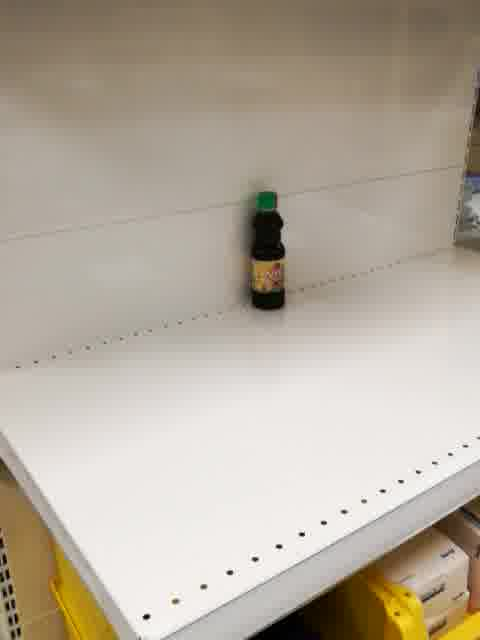cookingoil: (249, 190, 286, 311)
